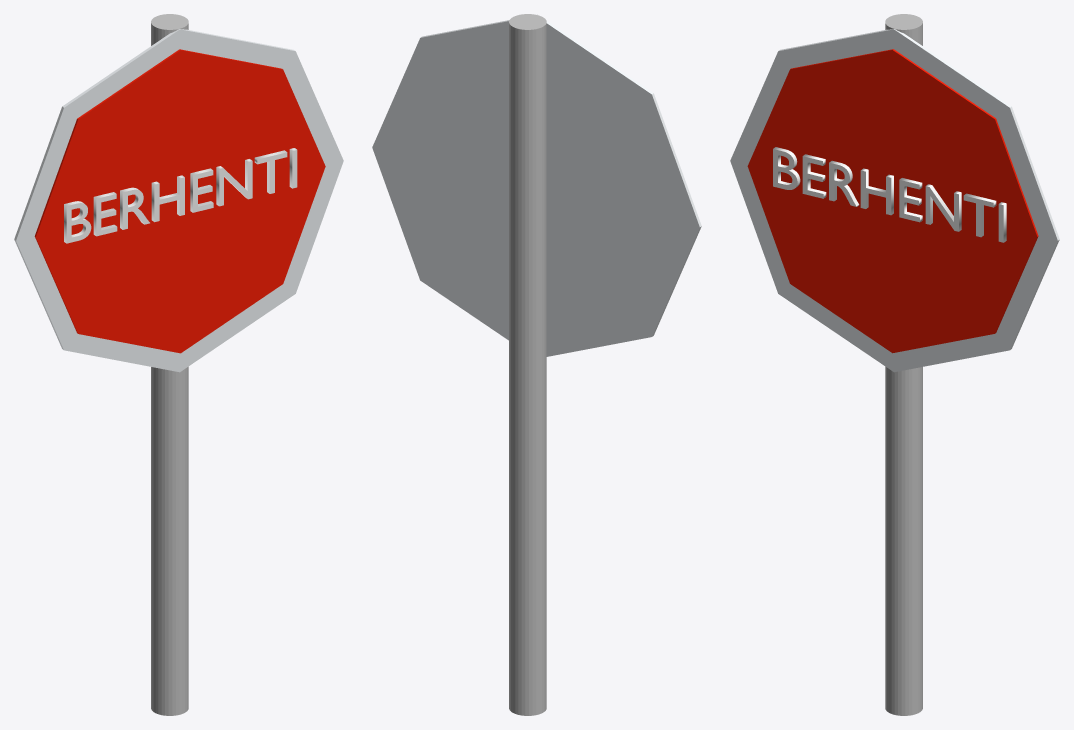
The model's file is berhenti-v1.fbx.
The picture shows the model from 3 angles, left to right: view 1: azimuth 30°, elevation 25°; view 2: azimuth 150°, elevation 25°; view 3: azimuth 330°, elevation 25°; orthographic projection.
Visible parts, largest first — view 1: Berhenti_Sign.001, Berhenti_Sign, Pole, Text; view 2: Berhenti_Sign, Pole; view 3: Berhenti_Sign.001, Berhenti_Sign, Pole, Text.
Boxes of the visible parts, x1,y1,x2,y2 form: Berhenti_Sign.001: (34, 49, 325, 353); Berhenti_Sign: (14, 29, 343, 372); Pole: (151, 14, 188, 715); Text: (64, 148, 297, 243); Berhenti_Sign: (372, 14, 701, 356); Pole: (509, 14, 546, 715); Berhenti_Sign.001: (747, 49, 1038, 353); Berhenti_Sign: (730, 29, 1059, 372); Pole: (885, 14, 922, 715); Text: (773, 147, 1006, 242).
Size of the model in its own units: 200 by 400 by 24.72.
